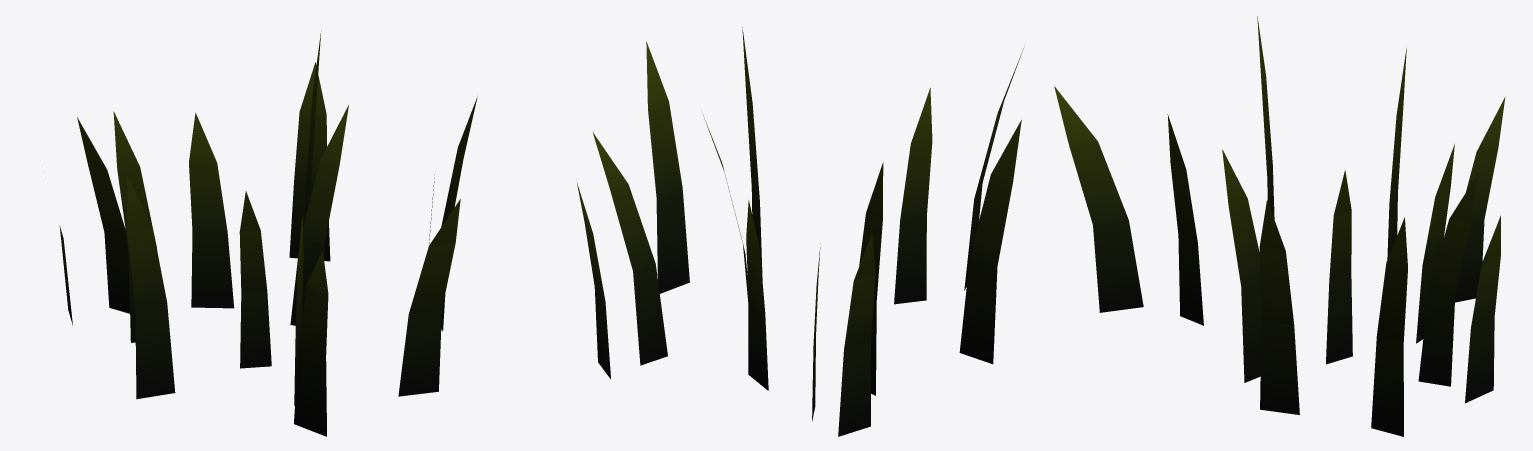
File: grass_clump.obj
3 views of the same model, side by side, from view 1: azimuth 30°, elevation 25°; view 2: azimuth 150°, elevation 25°; view 3: azimuth 270°, elevation 25° (orthographic). The views are drawn at different scales.
Parts seen in each view (by area): view 1: grass_clump; view 2: grass_clump; view 3: grass_clump.
Boxes of the visible parts, x1,y1,x2,y2 form: grass_clump: (59,30,477,436); grass_clump: (577,27,1023,436); grass_clump: (1054,16,1505,436).
Size of the model in its own units: 1.08 by 0.5869 by 1.01.
